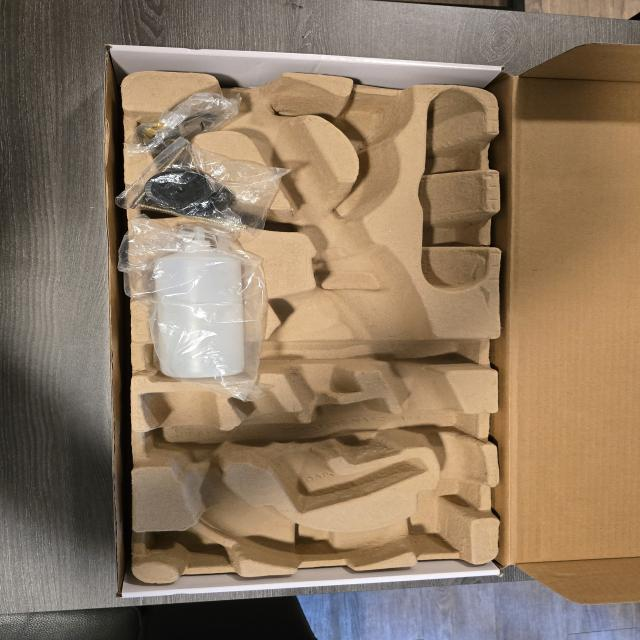1m: (142, 73, 486, 566)
2m: (225, 390, 426, 513)
3: (153, 224, 245, 377)
4m: (421, 89, 488, 293)
5m: (334, 97, 401, 147)
6: (129, 89, 244, 152)
7: (116, 137, 292, 232)
